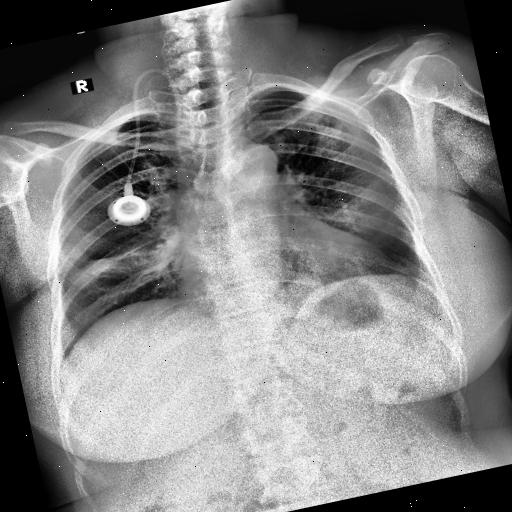0- Aortic enlargement: (216, 137, 283, 187), (220, 140, 280, 195), (225, 141, 281, 182)
13- Pulmonary fibrosis: (68, 237, 170, 288)
3- Cardiomegaly: (172, 216, 401, 316), (175, 230, 405, 326), (178, 238, 398, 326)
7- Lung Opacity: (83, 242, 177, 285), (85, 242, 171, 286)
